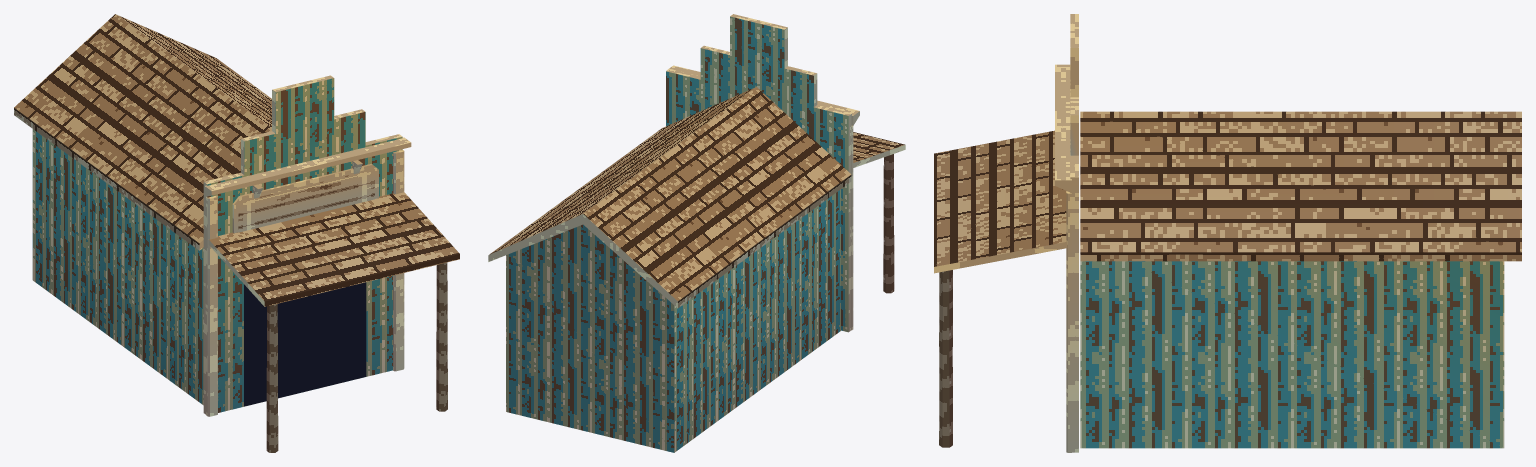
Rendered from wtown.facade__entry.glb.
The picture shows the model from 3 angles, left to right: view 1: azimuth 30°, elevation 25°; view 2: azimuth 150°, elevation 25°; view 3: azimuth 270°, elevation 25°; orthographic projection. The views are drawn at different scales.
Parts seen in each view (by area): view 1: kit_roof, kit_body, kit_porch, kit_front, kit_card_panes, kit_trim; view 2: kit_body, kit_roof, kit_front, kit_porch, kit_trim; view 3: kit_body, kit_roof, kit_porch, kit_trim, kit_front.
Boxes of the visible parts, x1,y1,x2,y2 form: kit_roof: (14, 14, 271, 250); kit_body: (32, 129, 203, 405); kit_porch: (208, 192, 459, 452); kit_front: (203, 75, 402, 414); kit_card_panes: (238, 169, 374, 406); kit_trim: (204, 137, 411, 416); kit_body: (506, 189, 840, 452); kit_roof: (488, 87, 851, 308); kit_front: (666, 14, 851, 332); kit_porch: (853, 132, 905, 293); kit_trim: (667, 65, 859, 330); kit_body: (1080, 261, 1504, 448); kit_roof: (1080, 111, 1521, 261); kit_porch: (934, 130, 1067, 447); kit_trim: (1055, 64, 1071, 452); kit_front: (1070, 14, 1078, 452).
Bounding box in the file's own units: 3.94 × 5.7 × 8.32.
Materials: 6 (6 with a texture image).
